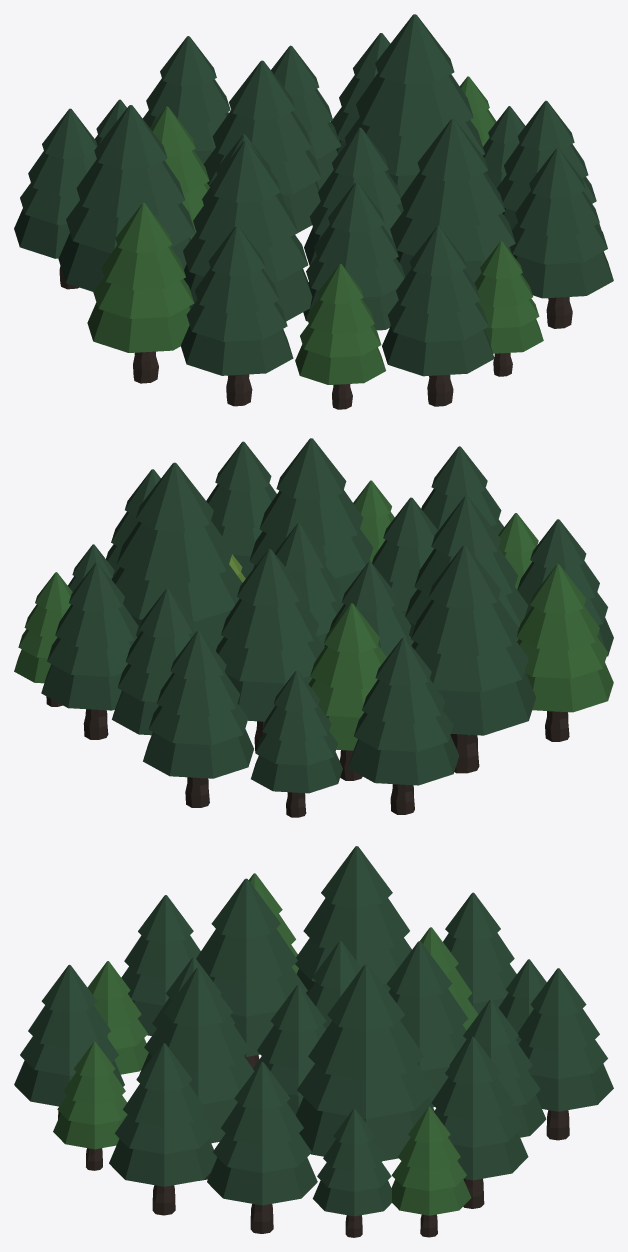
File: forest1.fbx
3 views of the same model, one above another, from view 1: azimuth 30°, elevation 25°; view 2: azimuth 150°, elevation 25°; view 3: azimuth 270°, elevation 25° (orthographic). The views are drawn at different scales.
Parts seen in each view (by area): view 1: las; view 2: las; view 3: las.
Part boxes in pixels (<box>): las: <box>14,14,613,409</box>; las: <box>14,438,613,817</box>; las: <box>14,846,613,1237</box>.
Bounding box in the file's own units: 1765 × 815 × 1900.
